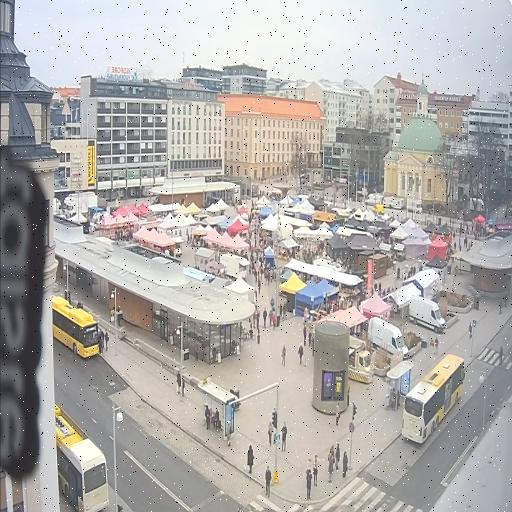bus: (54, 403, 107, 511), (401, 355, 464, 443), (51, 296, 97, 358)
delivery: (367, 317, 407, 359), (408, 297, 444, 333), (348, 336, 373, 383)
